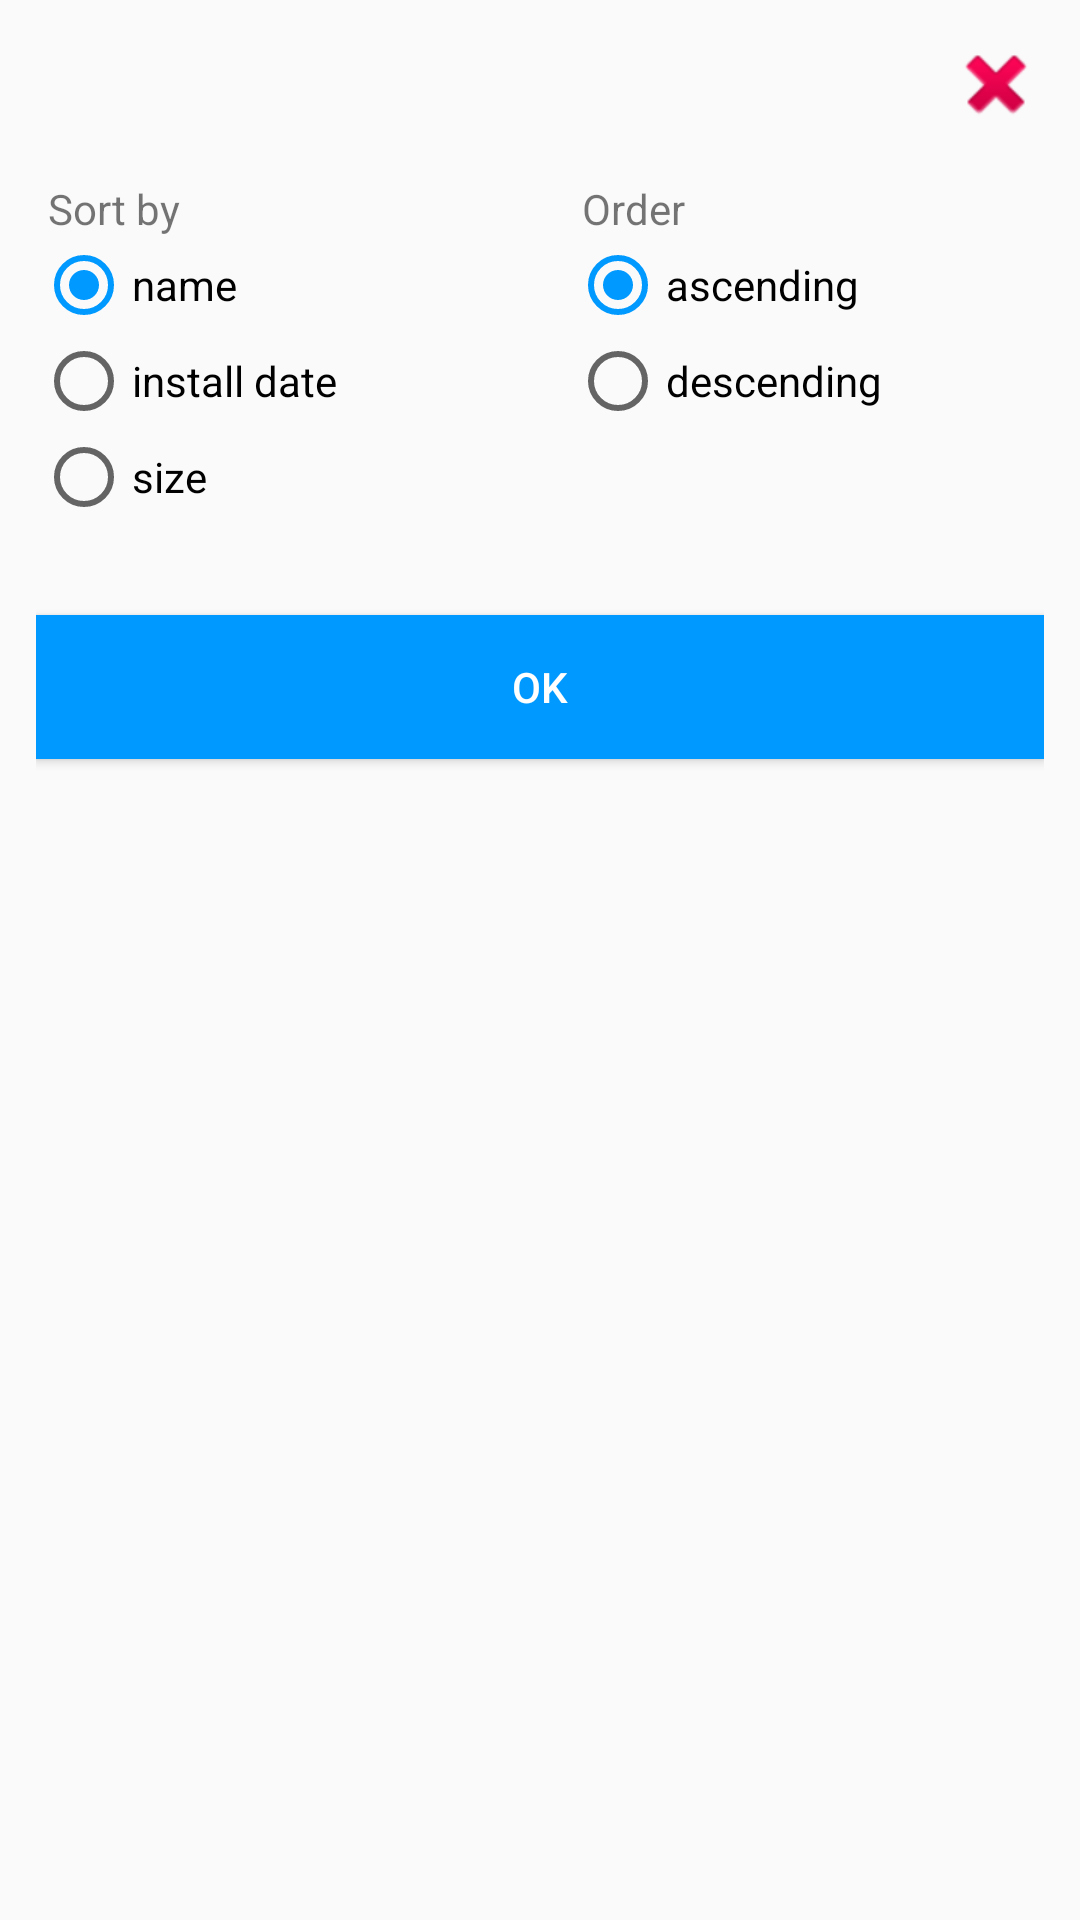

Screen size 1080px x 1920px. Icon name, then its box in pixels as (x1, y1, x2, y2):
delete: (965, 55, 1027, 114)
